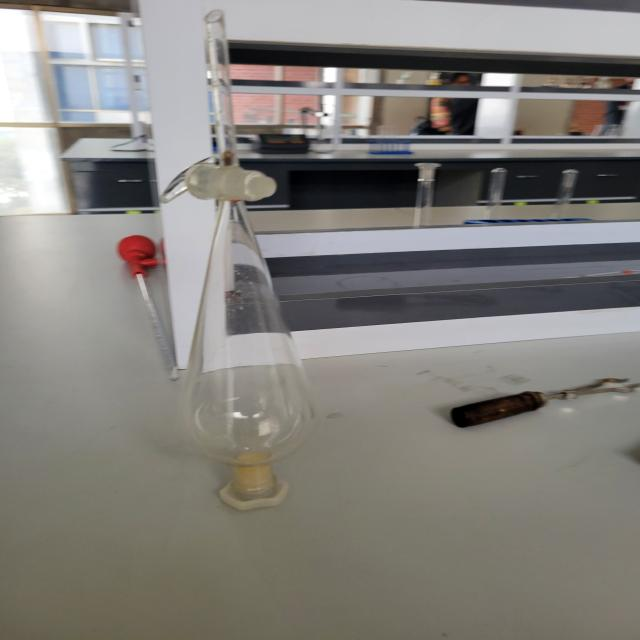Separating_Funnel: (125, 5, 364, 531)
